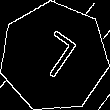L_SW: (27, 28, 81, 86)
